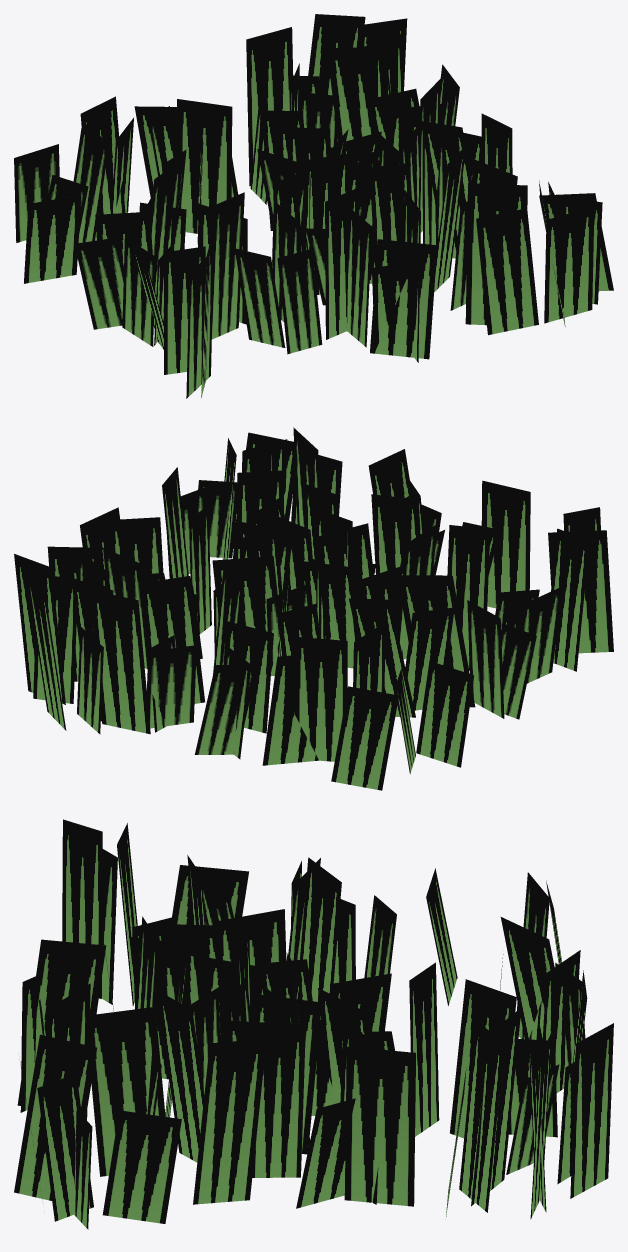
The model's file is foliage_grass.gltf.
3 views of the same model, one above another, from view 1: azimuth 30°, elevation 25°; view 2: azimuth 150°, elevation 25°; view 3: azimuth 270°, elevation 25° (orthographic). The views are drawn at different scales.
Parts seen in each view (by area): view 1: foliage_grass; view 2: foliage_grass; view 3: foliage_grass.
Boxes of the visible parts, x1=… form: foliage_grass: x1=14, y1=14, x2=613, y2=398; foliage_grass: x1=14, y1=427, x2=613, y2=790; foliage_grass: x1=14, y1=819, x2=613, y2=1229.
Size of the model in its own units: 1.82 by 0.5488 by 1.72.
1 material, 1 textured.
